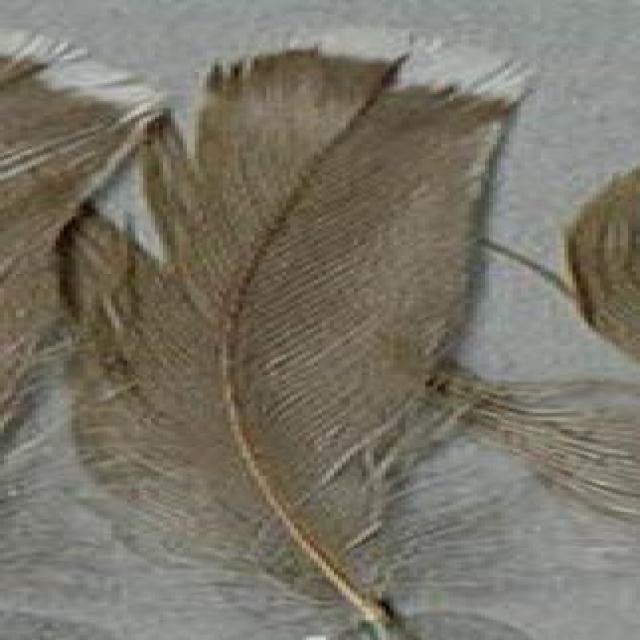feather: (56, 21, 530, 640)
